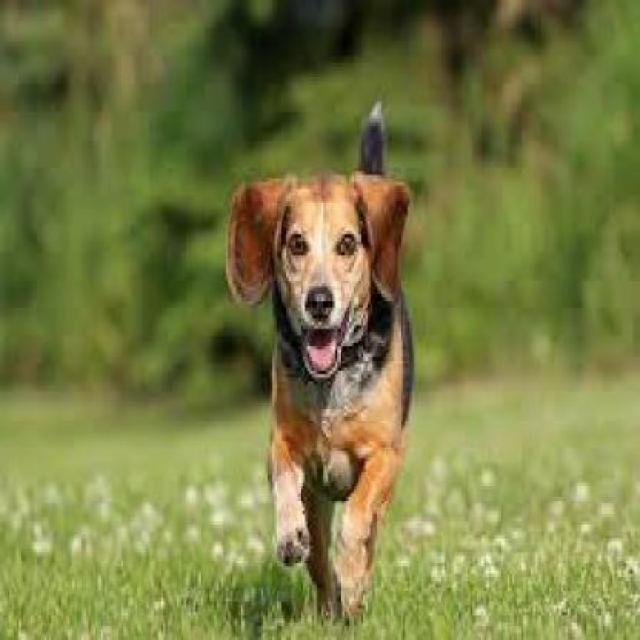Dog: (222, 91, 424, 623)
